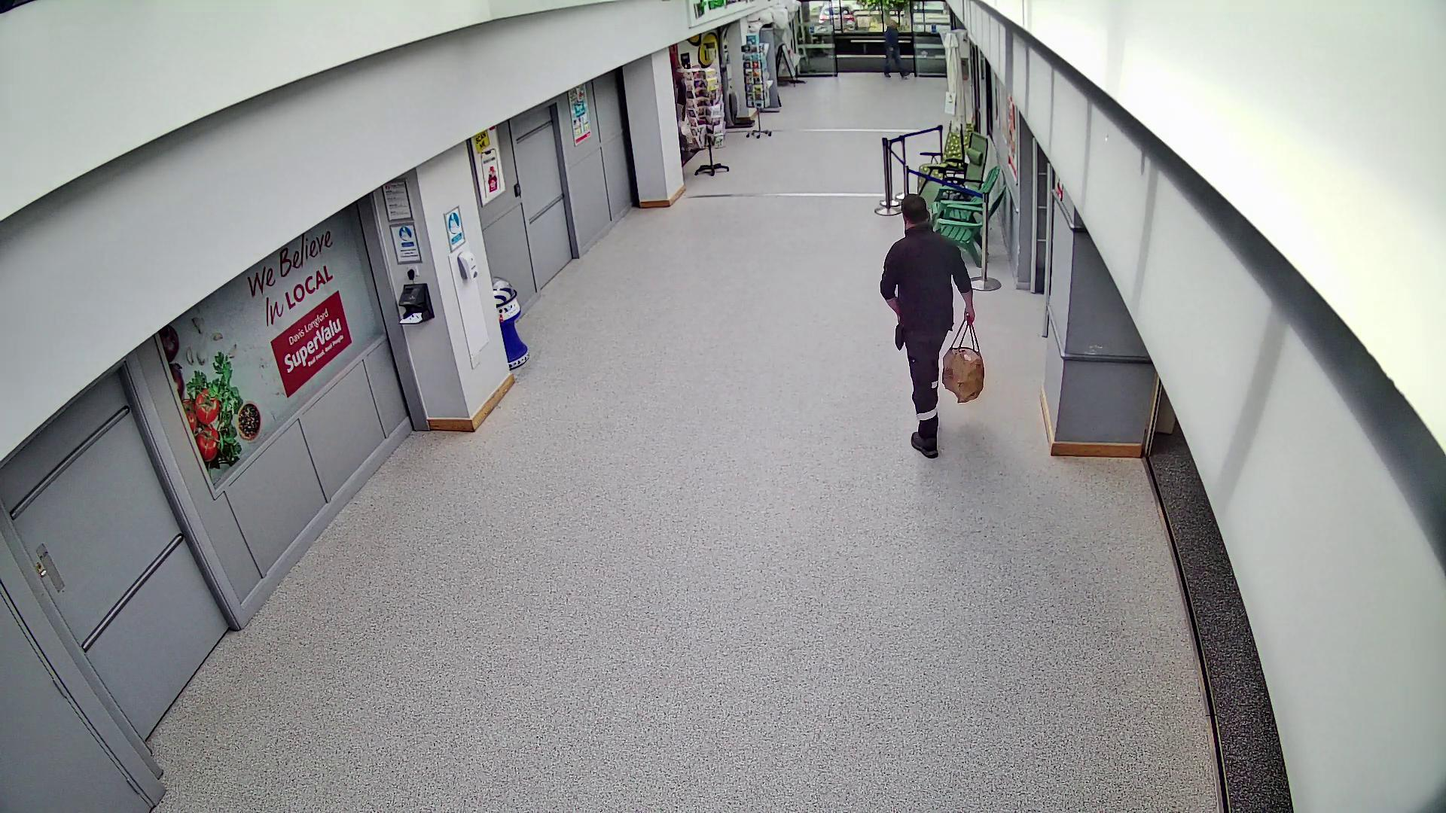filled-shopping-bags: (940, 312, 985, 403)
person: (880, 194, 984, 458)
person-with-filled-shopping-bag-s-: (878, 193, 984, 458)
